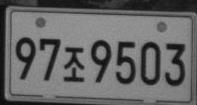0: (140, 41, 161, 86)
3: (163, 42, 186, 86)
5: (115, 41, 136, 85)
7: (39, 37, 61, 80)
9: (14, 36, 37, 79), (90, 39, 112, 82)
조: (63, 46, 84, 83)
